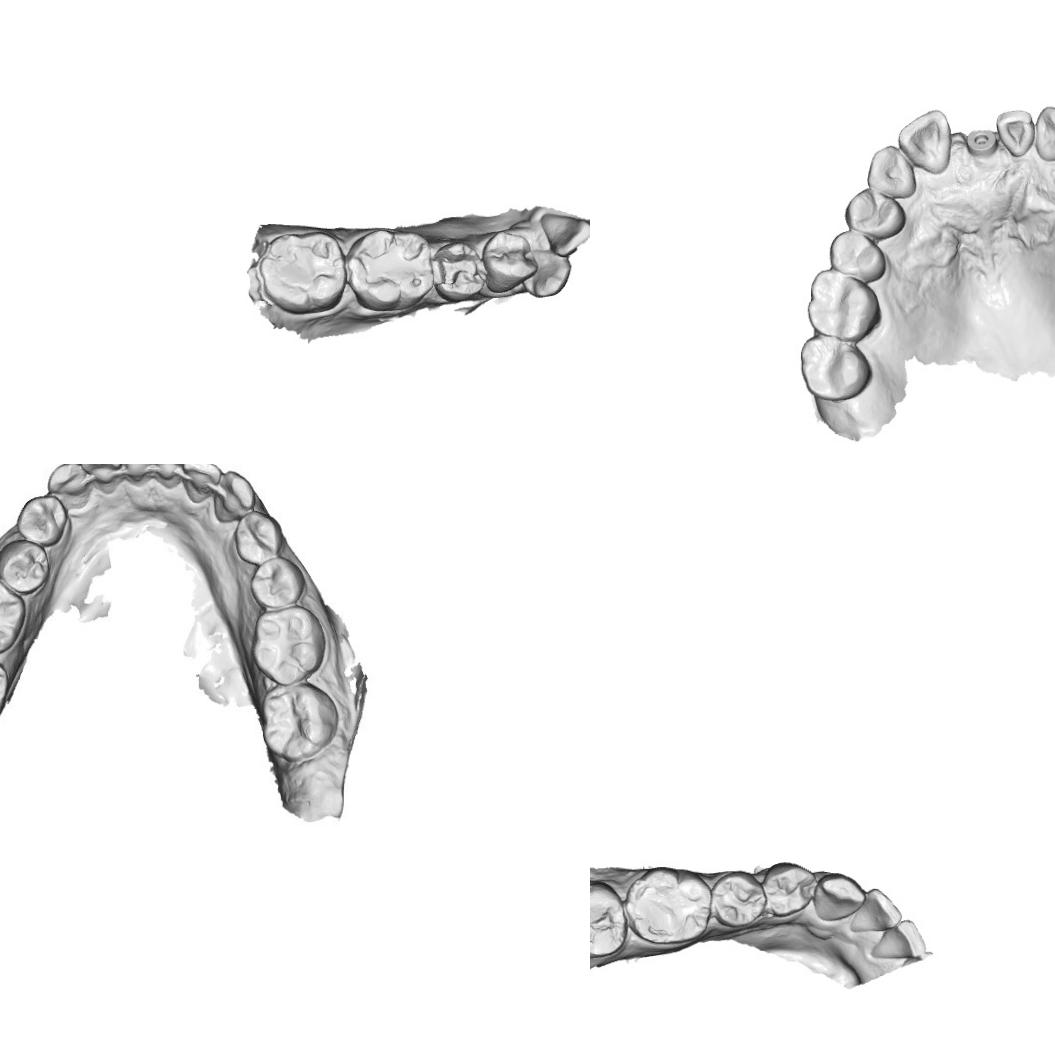canine: (810, 871, 864, 926), (522, 246, 574, 299), (866, 144, 916, 199), (213, 469, 252, 520), (49, 464, 93, 508), (1033, 105, 1055, 161)
implant: (965, 128, 998, 156)
incisor: (897, 108, 952, 174), (846, 886, 903, 937), (868, 918, 928, 966), (536, 211, 590, 255), (994, 108, 1035, 158), (183, 464, 214, 501), (83, 464, 116, 491), (117, 464, 153, 478), (152, 464, 184, 477)
inlay: (431, 247, 482, 289)
molar: (254, 228, 348, 318), (344, 226, 436, 314), (626, 864, 712, 950), (805, 267, 882, 343), (263, 688, 337, 762), (256, 610, 324, 688), (798, 331, 871, 402), (590, 881, 629, 962), (0, 582, 25, 650)
premolar: (484, 226, 538, 296), (710, 868, 766, 931), (844, 186, 906, 241), (826, 229, 886, 283), (762, 860, 816, 918), (252, 559, 303, 608), (0, 545, 52, 591), (20, 493, 66, 545), (234, 510, 280, 562)
